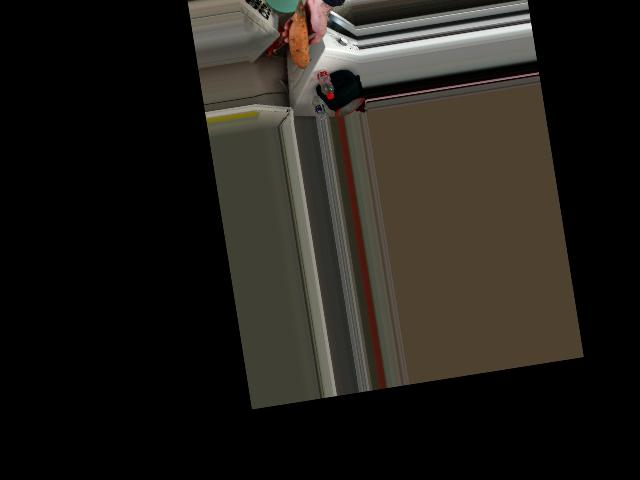sweet_potato: (282, 7, 314, 69)
